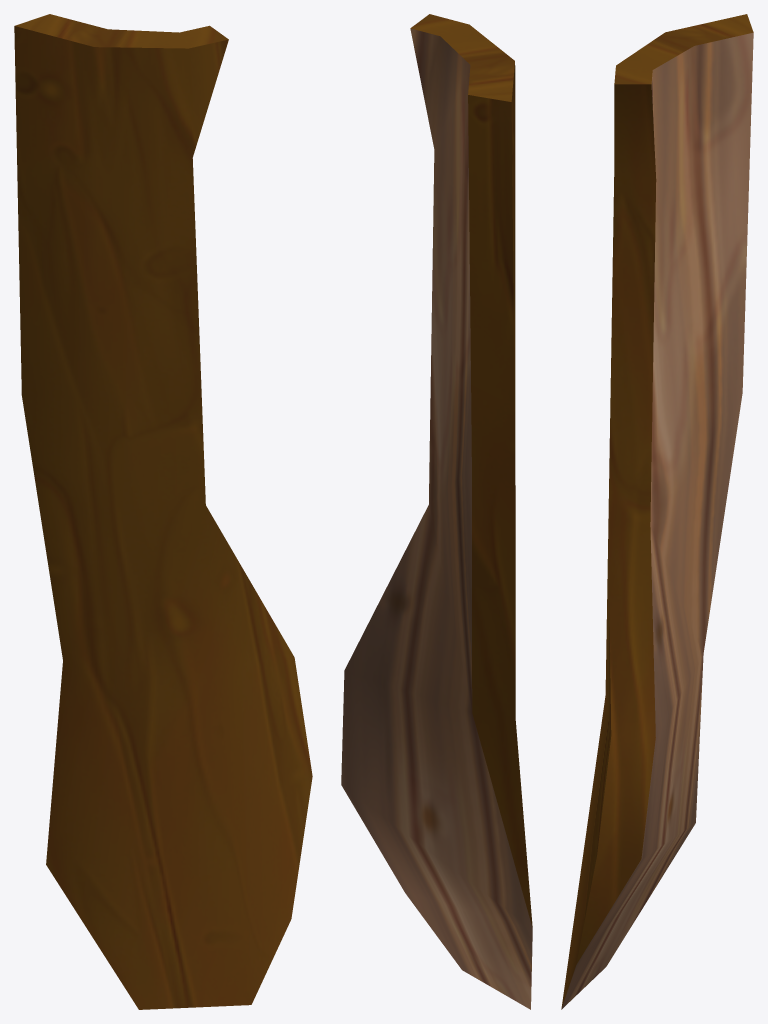
Rendered from p_mesh_hvs_leafy_bark02.fbx.
3 renders of one model, left to right at view 1: azimuth 30°, elevation 25°; view 2: azimuth 150°, elevation 25°; view 3: azimuth 270°, elevation 25°, orthographic. The views are drawn at different scales.
Parts seen in each view (by area): view 1: model.003; view 2: model.003; view 3: model.003.
Boxes of the visible parts, x1,y1,x2,y2 form: model.003: (14, 14, 312, 1009); model.003: (341, 14, 532, 1009); model.003: (561, 14, 753, 1009).
Size of the model in its own units: 0.9796 by 3.99 by 0.7491.
Materials: 1 (1 with a texture image).
